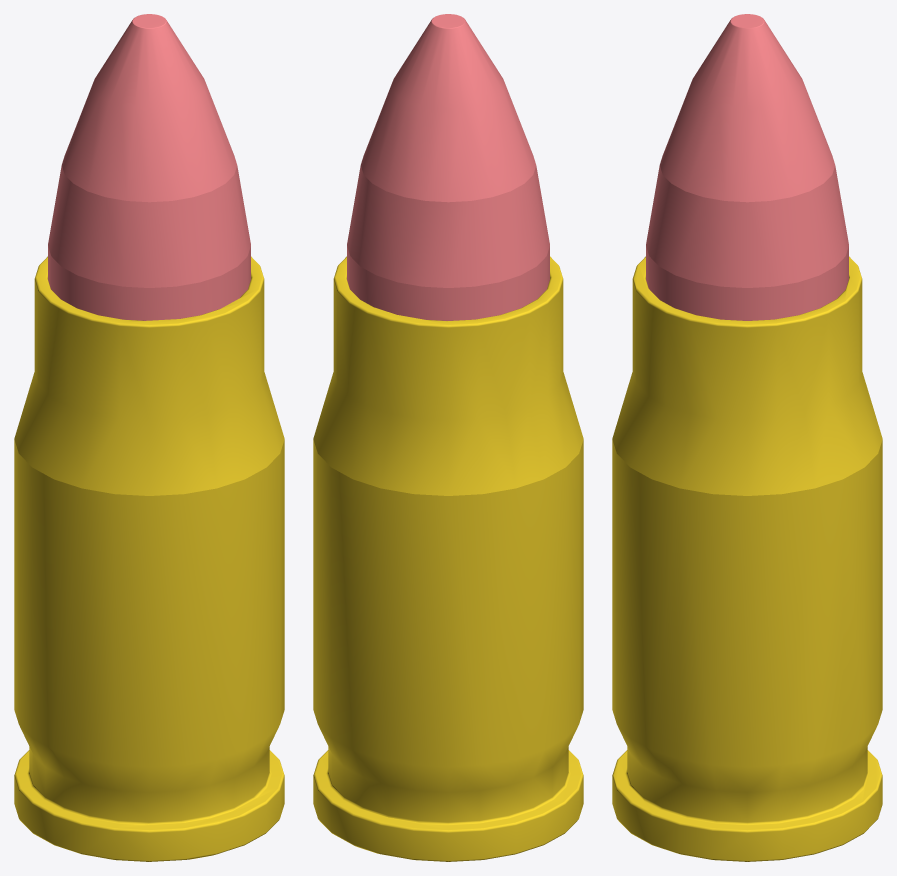
Rendered from ammo_machinegun.glb.
The picture shows the model from 3 angles, left to right: view 1: azimuth 30°, elevation 25°; view 2: azimuth 150°, elevation 25°; view 3: azimuth 270°, elevation 25°; orthographic projection.
Parts seen in each view (by area): view 1: Group, Group.001; view 2: Group, Group.001; view 3: Group, Group.001.
Part boxes in pixels (<box>): Group: <box>14,256,284,861</box>; Group.001: <box>48,14,250,320</box>; Group: <box>313,256,583,861</box>; Group.001: <box>347,14,549,320</box>; Group: <box>612,256,882,861</box>; Group.001: <box>646,14,848,320</box>.
Size of the model in its own units: 0.0293 by 0.0938 by 0.0293.
